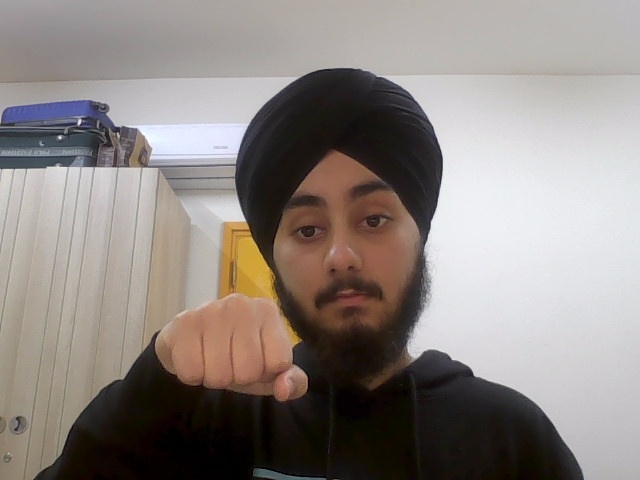Yes: (155, 289, 307, 409)
